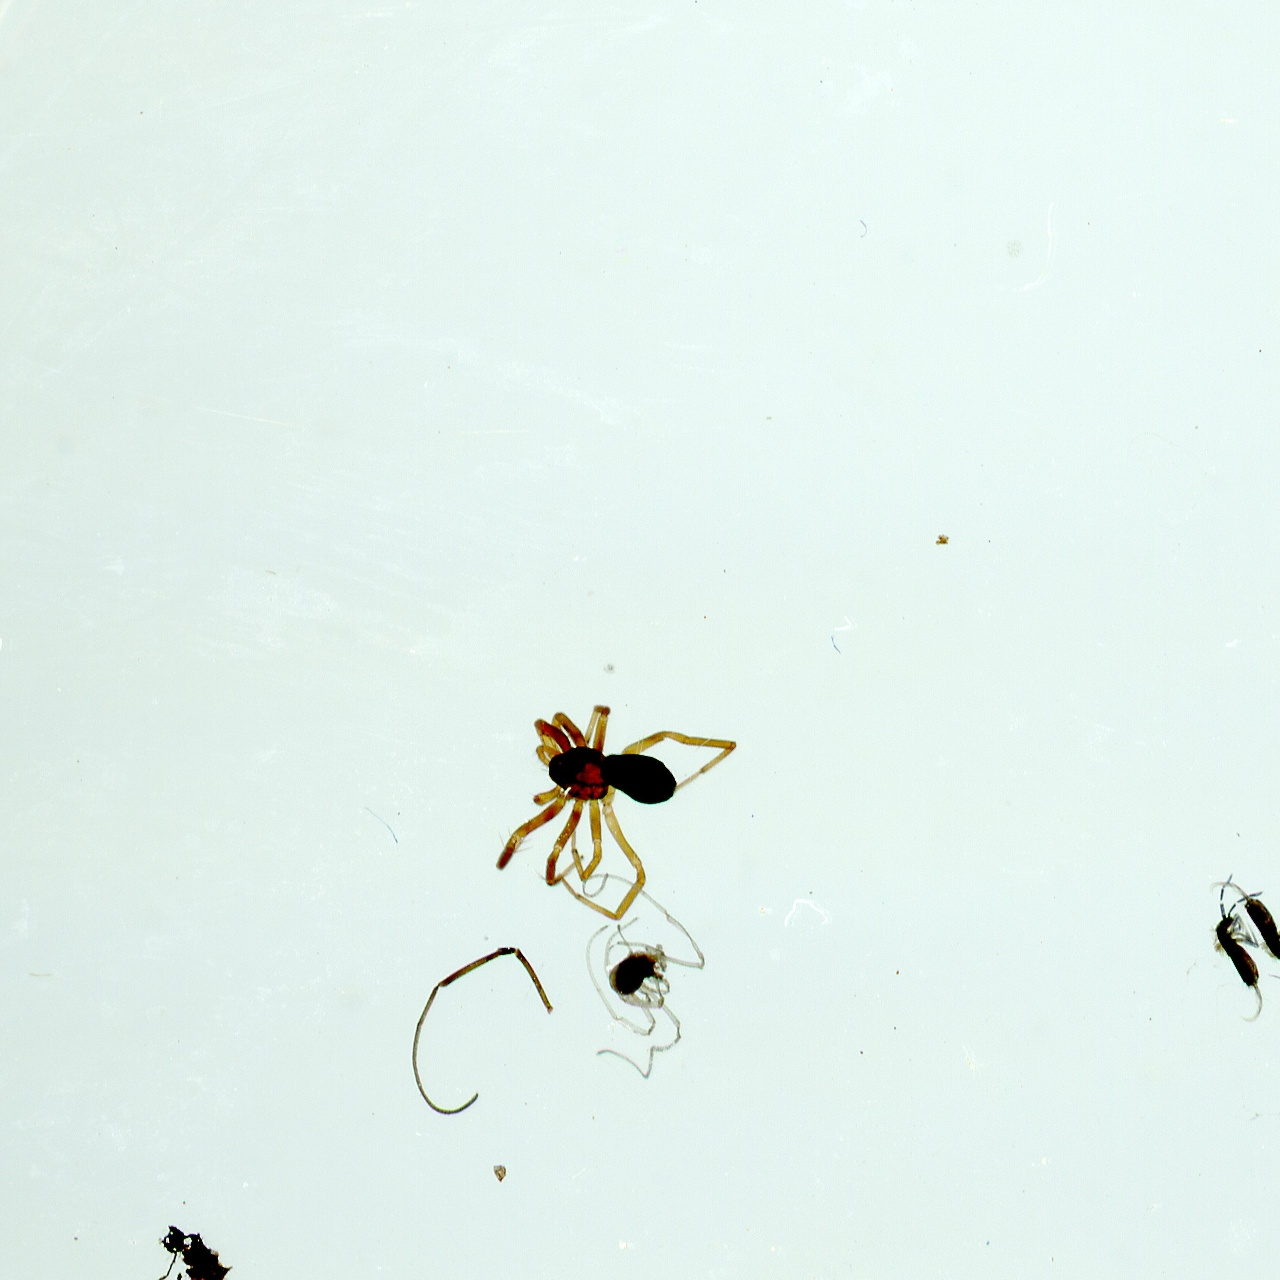arthropod: (479, 696, 741, 922), (562, 860, 713, 1088), (1200, 842, 1280, 991), (1208, 866, 1269, 1030)
